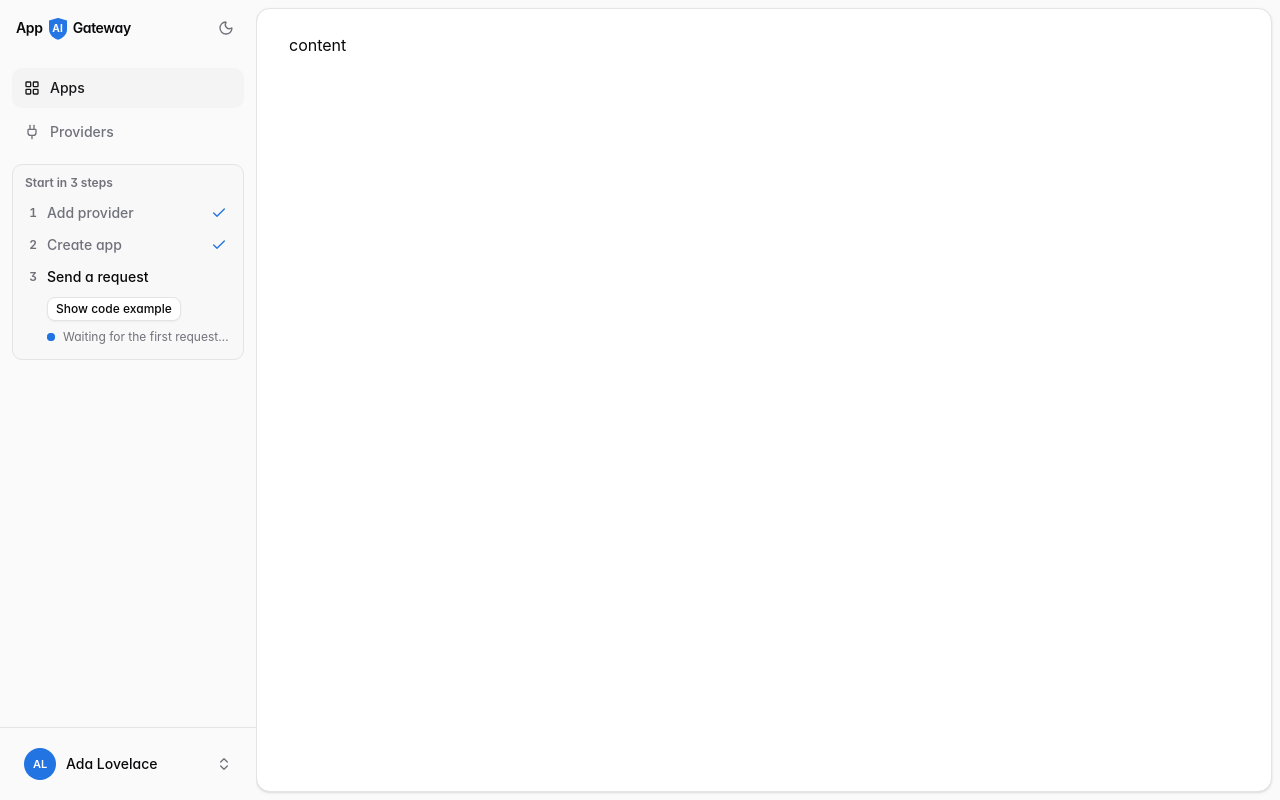
Test: the first-run checklist › uses the oldest app's API authentication for the example
What coordinates should you click on to do the following:
click the button "Show code example"
I would click on:
 (114, 309)
Its box is x1=47 y1=297 x2=181 y2=321.
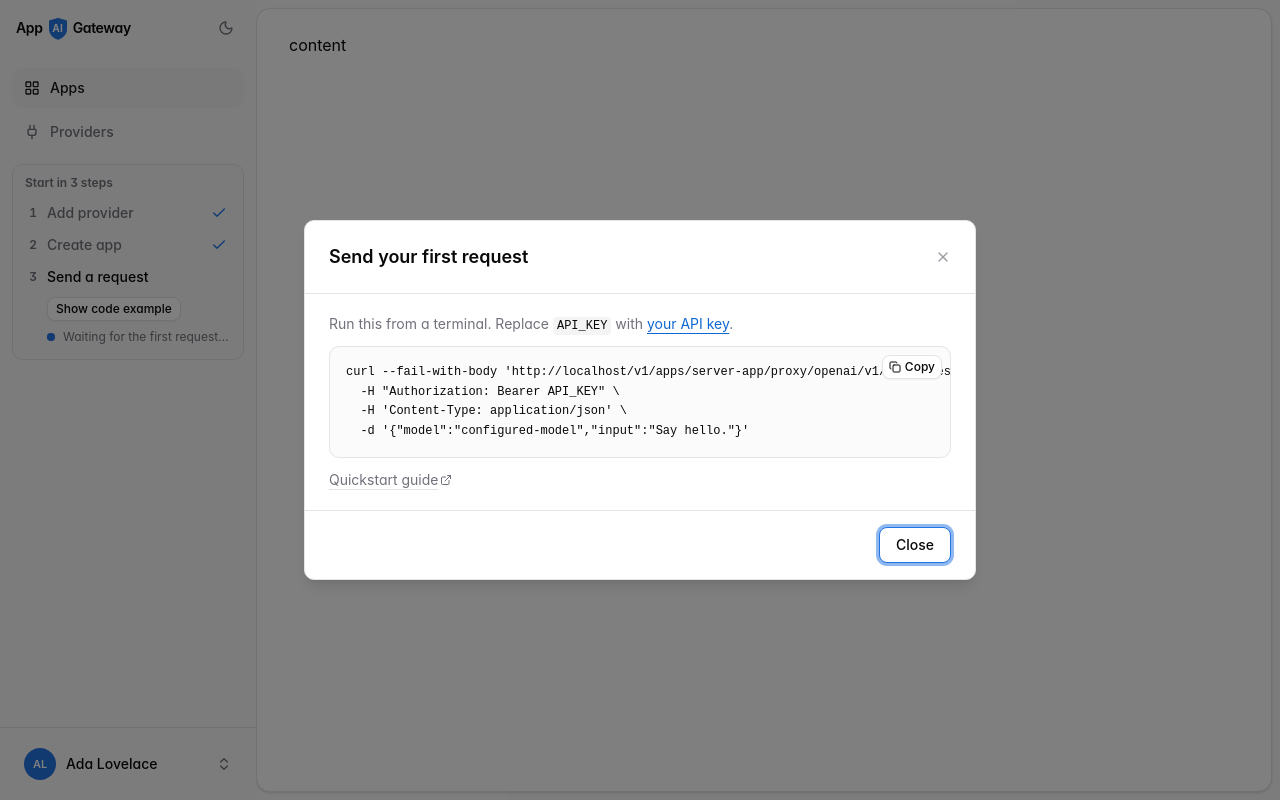
Now the text "curl --fail-with-body" is shown, box x1=346 y1=365 x2=950 y2=438
Now the text "/v1/apps/server-app/proxy/openai/v1/responses" is shown, box x1=346 y1=365 x2=950 y2=438
Now the text "Bearer API_KEY" is shown, box x1=346 y1=365 x2=950 y2=438
